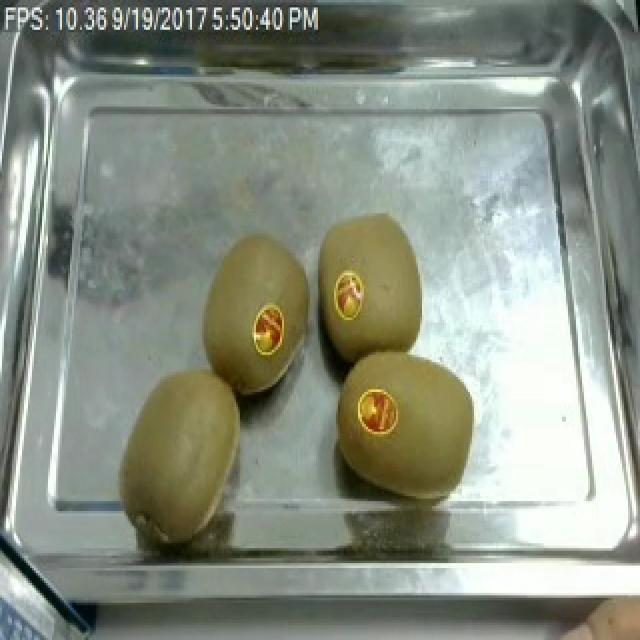Fruit: (112, 360, 252, 550), (328, 340, 488, 503), (192, 226, 308, 404), (314, 206, 434, 374), (512, 590, 640, 640)
